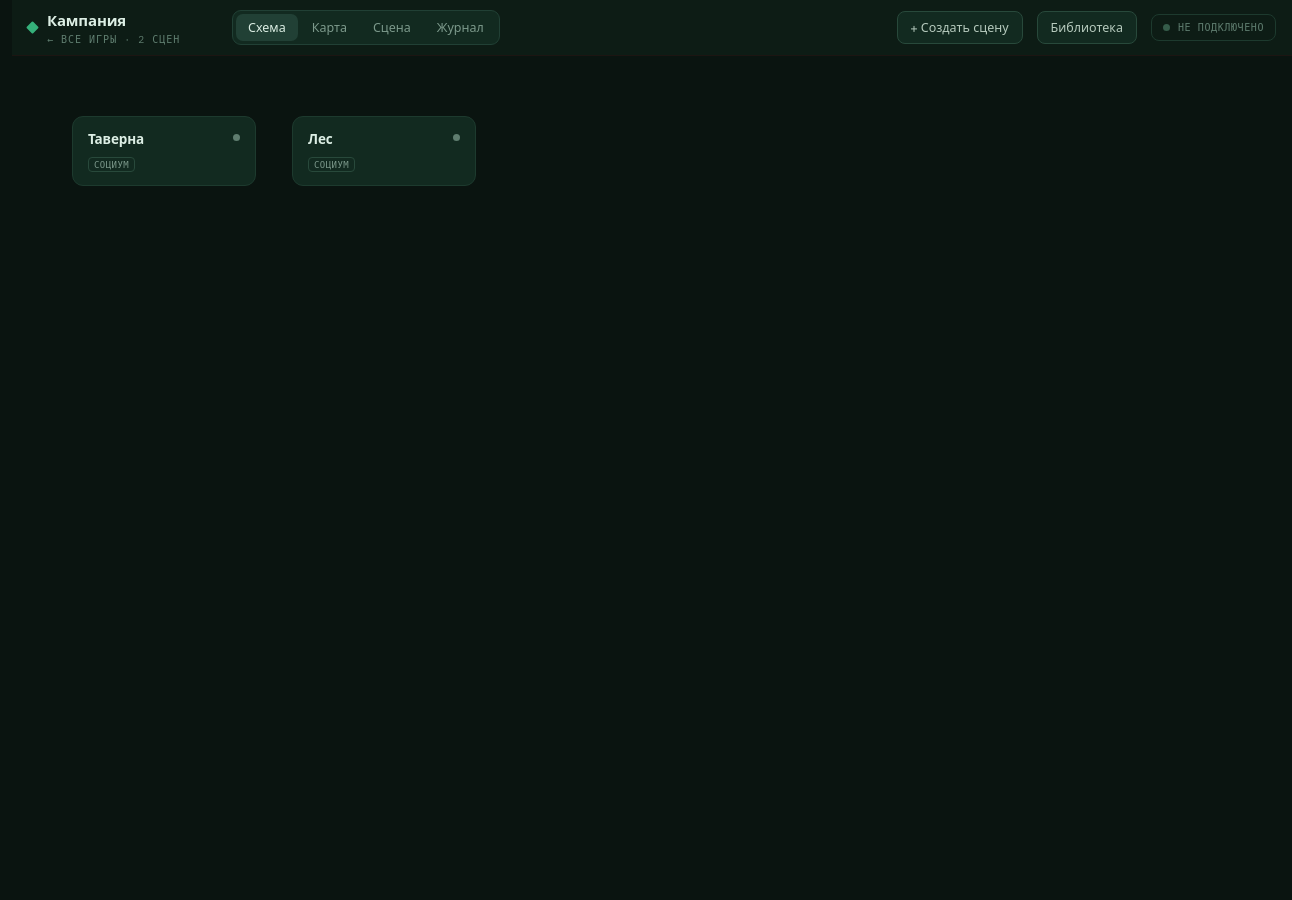
Scenario: MasterView › клик на сцену открывает инспектор
What coordinates should you click on to do the following:
click the element with class "node" showing "Таверна Социум"
I would click on:
 (164, 151)
Its box is [72, 116, 256, 186].
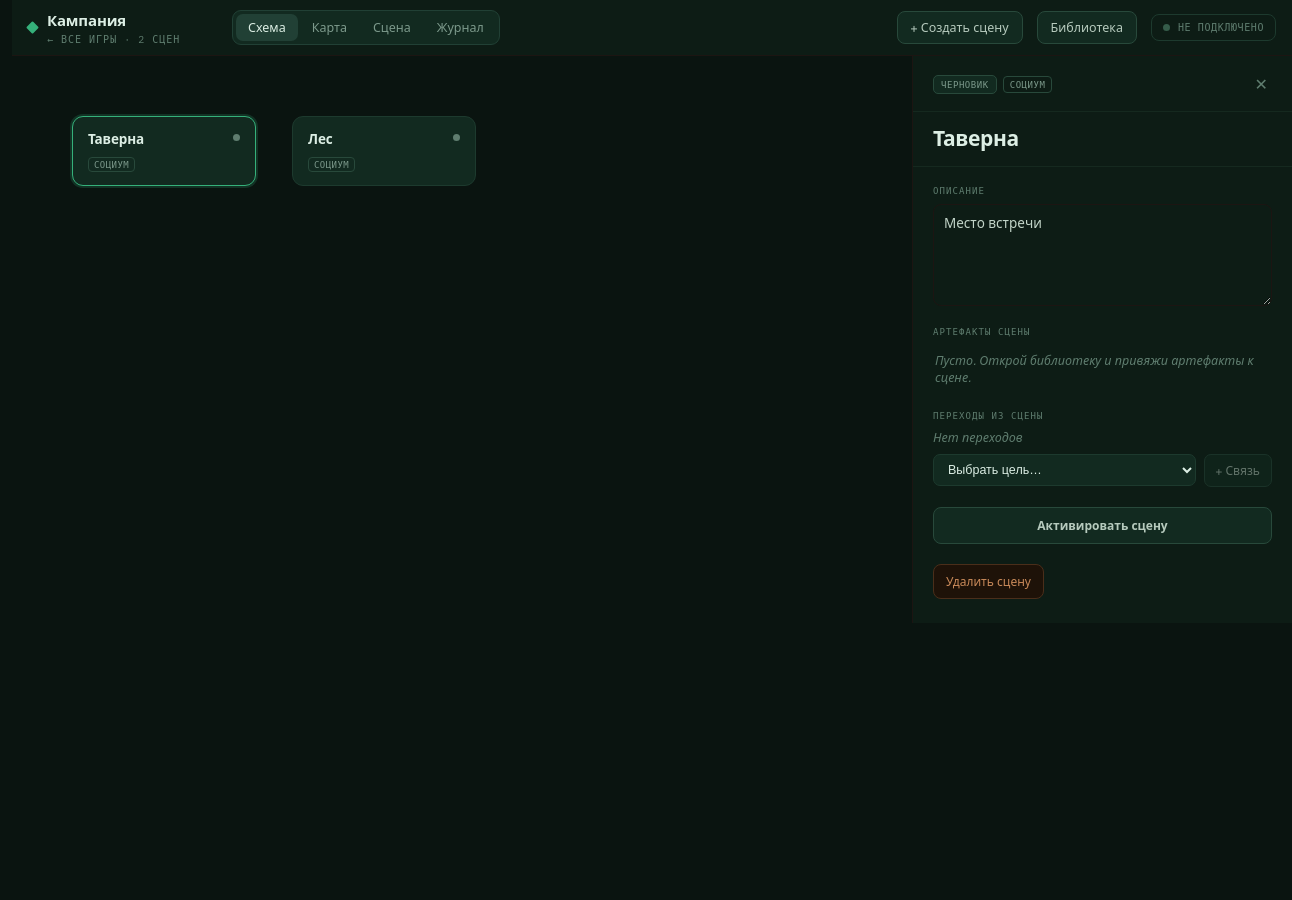
Expected: the element with class "inspector" is shown, [912, 56, 1291, 623]
Expected: the text with class "insp-title" reads "Таверна", [933, 125, 1019, 152]
